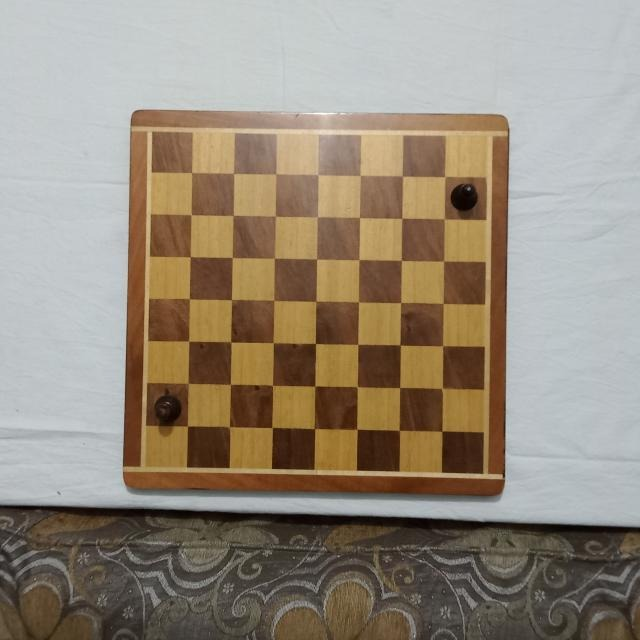black-pawn: (449, 182, 479, 214), (153, 392, 183, 423)
